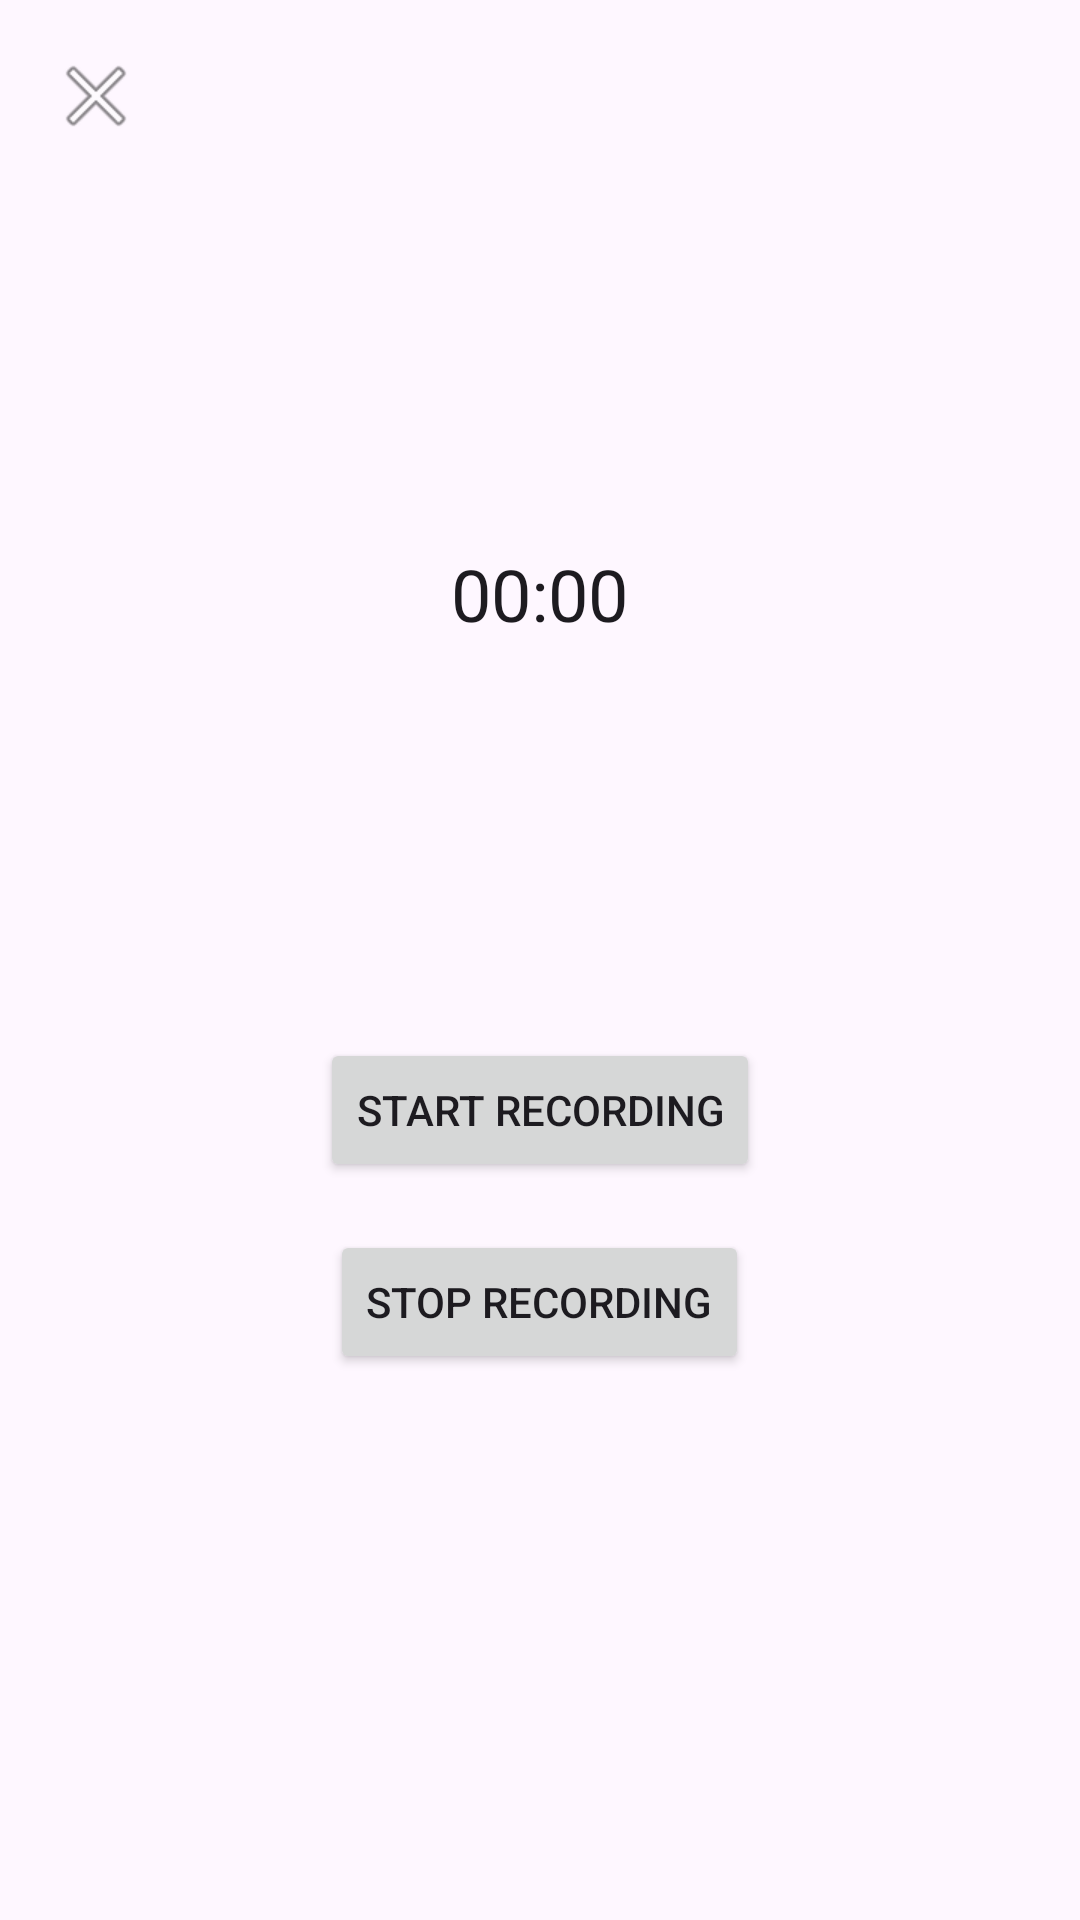

Point at icon controls on the screen. Image size 1080w x 1920h, points as (x=x, y=y).
Close: (x=96, y=96)
